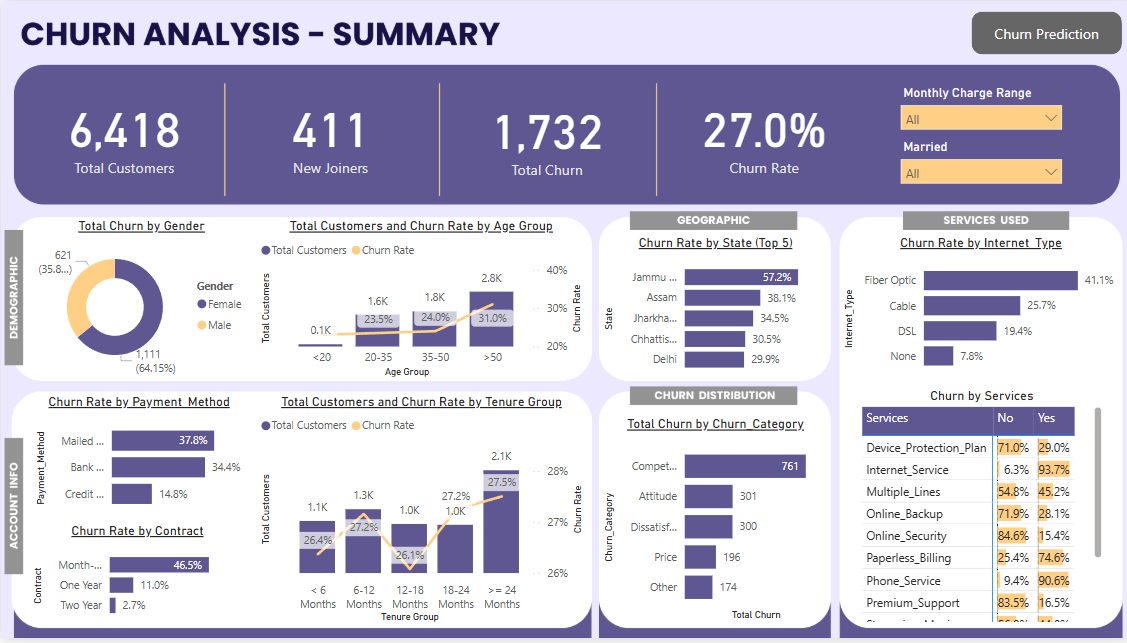

The dashboard page shown, as its layout file describes it:
{"tool":"powerbi","page":{"name":"Summary","canvas":[1280,720],"ordinal":0},"visuals":[{"type":"card","fields":{"Values":["tbl_Measures.Total Customers"]},"box":[61.4,91.4,155.7,115.7],"z":0},{"type":"card","fields":{"Values":["tbl_Measures.New Joiners"]},"box":[302.9,91.4,137.1,115.7],"z":1000},{"type":"card","fields":{"Values":["tbl_Measures.Total Churn"]},"box":[534.3,92.9,165.7,115.7],"z":2000},{"type":"card","fields":{"Values":["tbl_Measures.Churn Rate"]},"box":[775.7,91.4,171.4,115.7],"z":3000},{"type":"donutChart","fields":{"Category":["prod_Churn.Gender"],"Y":["tbl_Measures.Total Churn"]},"box":[31.1,245.6,256.7,183.3],"z":4000},{"type":"lineStackedColumnComboChart","fields":{"Category":["mapping_AgeGrp.Age Group"],"Y":["tbl_Measures.Total Customers"],"Y2":["tbl_Measures.Churn Rate"]},"box":[287.8,245.6,373.3,183.3],"z":5000},{"type":"clusteredBarChart","fields":{"Category":["prod_Churn.Payment_Method"],"Y":["tbl_Measures.Churn Rate"]},"box":[34.4,444.4,244.4,142.2],"z":6000},{"type":"clusteredBarChart","fields":{"Category":["prod_Churn.Contract"],"Y":["tbl_Measures.Churn Rate"]},"box":[31.3,589.3,247.3,116.7],"z":7000},{"type":"lineStackedColumnComboChart","fields":{"Category":["mapping_TenureGrp.Tenure Group"],"Y":["tbl_Measures.Total Customers"],"Y2":["tbl_Measures.Churn Rate"]},"box":[288,444,374,262],"z":8000},{"type":"clusteredBarChart","title":"Churn Rate by State (Top 5)","fields":{"Category":["prod_Churn.State"],"Y":["tbl_Measures.Churn Rate"]},"box":[675.6,264.4,262.2,164.4],"z":9000},{"type":"clusteredBarChart","fields":{"Category":["prod_Churn.Churn_Category"],"Y":["tbl_Measures.Total Churn"]},"box":[675.6,468.9,262.2,234.4],"z":10000},{"type":"clusteredBarChart","fields":{"Category":["prod_Churn.Internet_Type"],"Y":["tbl_Measures.Churn Rate"]},"box":[946.7,264.4,320,164.4],"z":11000},{"type":"pivotTable","title":"Churn by Services","fields":{"Rows":["prod_Services.Services"],"Columns":["prod_Services.Status"],"Values":["Sum(prod_Services.Churn Status)"]},"box":[967.8,436.7,281.1,268.9],"z":12000},{"type":"slicer","fields":{"Values":["prod_Churn.Monthly Charge Status"]},"box":[1006,90,202,60],"z":13000},{"type":"slicer","fields":{"Values":["prod_Churn.Married"]},"box":[1006,150,202,58],"z":14000}]}

Visuals, with their boxes in screenshot pixels (x1, y1, x2, y2), scaled from the page's 1280x720 canvas onto the 1127x643 screenshot:
card - tbl_Measures.Total Customers: l=54, t=82, r=191, b=185
card - tbl_Measures.New Joiners: l=267, t=82, r=387, b=185
card - tbl_Measures.Total Churn: l=470, t=83, r=616, b=186
card - tbl_Measures.Churn Rate: l=683, t=82, r=834, b=185
donutChart - prod_Churn.Gender x tbl_Measures.Total Churn: l=27, t=219, r=253, b=383
lineStackedColumnComboChart - mapping_AgeGrp.Age Group x tbl_Measures.Total Customers: l=253, t=219, r=582, b=383
clusteredBarChart - prod_Churn.Payment_Method x tbl_Measures.Churn Rate: l=30, t=397, r=245, b=524
clusteredBarChart - prod_Churn.Contract x tbl_Measures.Churn Rate: l=28, t=526, r=245, b=630
lineStackedColumnComboChart - mapping_TenureGrp.Tenure Group x tbl_Measures.Total Customers: l=254, t=397, r=583, b=630
"Churn Rate by State (Top 5)" clusteredBarChart: l=595, t=236, r=826, b=383
clusteredBarChart - prod_Churn.Churn_Category x tbl_Measures.Total Churn: l=595, t=419, r=826, b=628
clusteredBarChart - prod_Churn.Internet_Type x tbl_Measures.Churn Rate: l=834, t=236, r=1115, b=383
"Churn by Services" pivotTable: l=852, t=390, r=1100, b=630
slicer - prod_Churn.Monthly Charge Status: l=886, t=80, r=1064, b=134
slicer - prod_Churn.Married: l=886, t=134, r=1064, b=186
